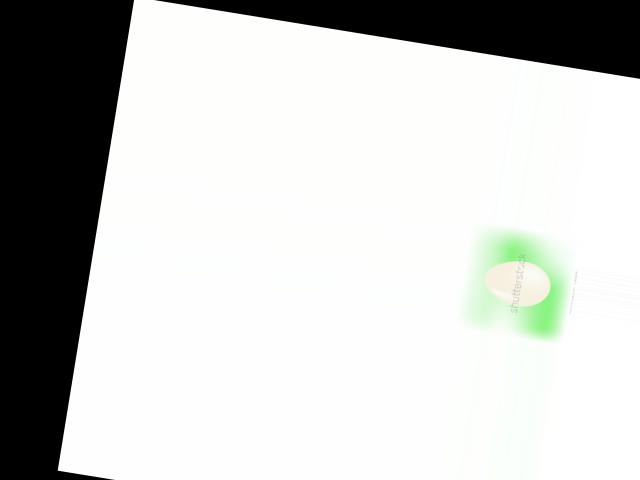egg: (481, 255, 553, 309)
